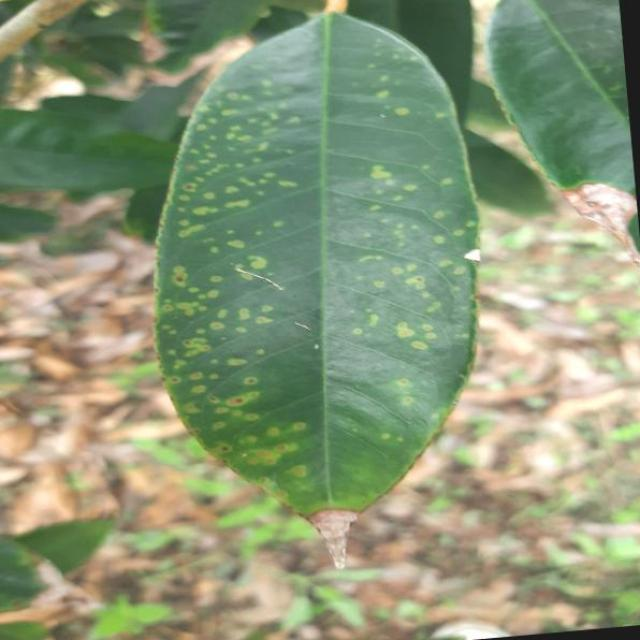Leaf Spot: (118, 1, 518, 590)
